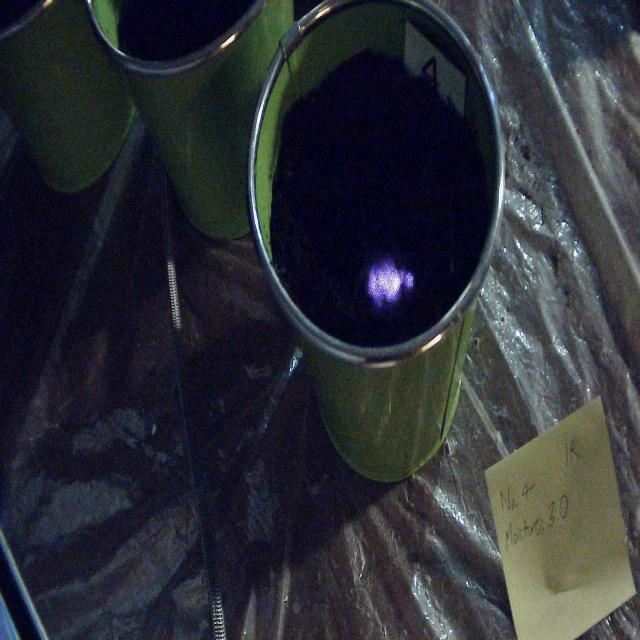soil-moisture-3.0: (367, 260, 415, 304)
